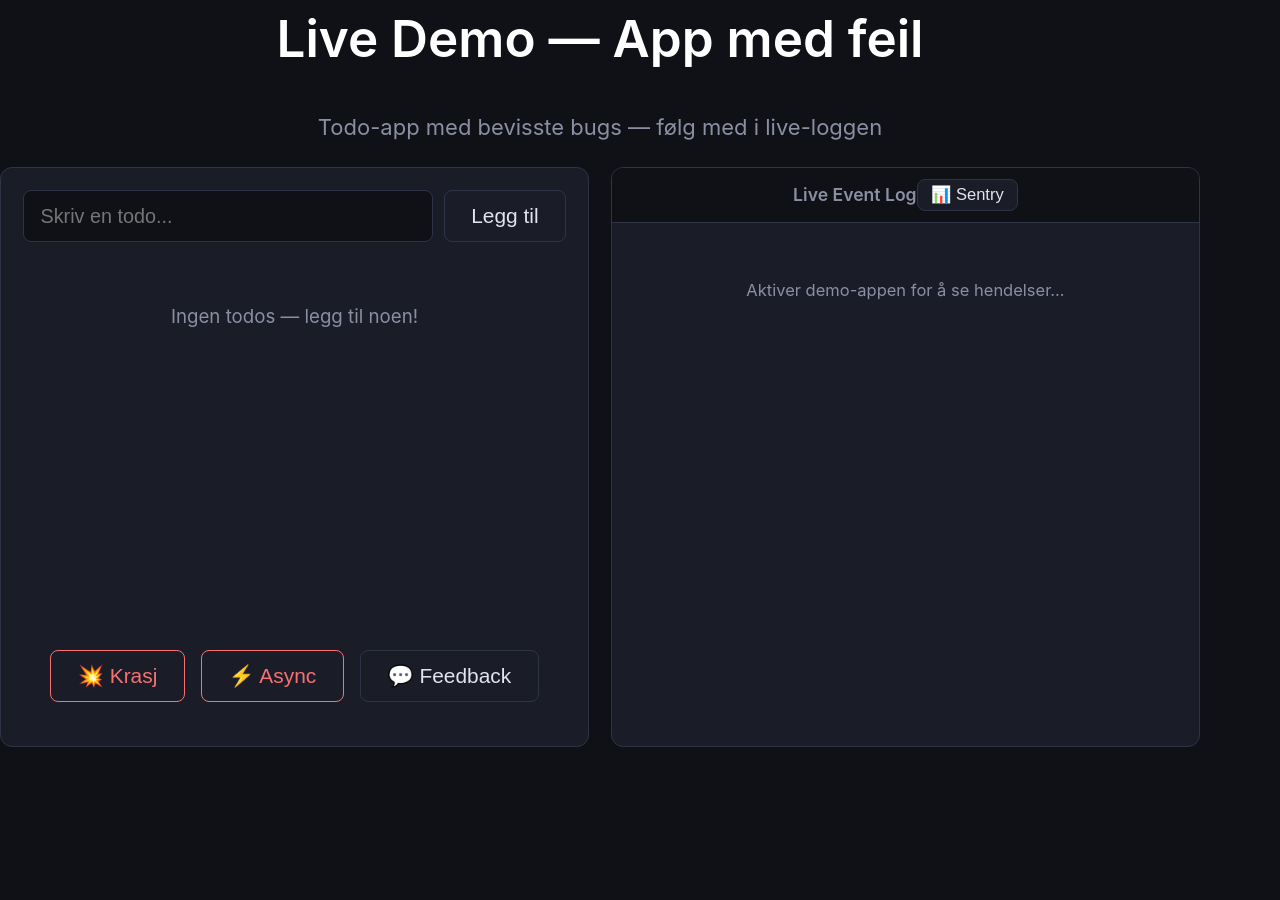
DemoAppSlide › blocking delete on index 2 shows error
Type "A" into the field with placeholder "Skriv en todo..." at (228,216), box top-left (23, 190), bottom-right (433, 242)
Click the button "Legg til" at (505,216), box top-left (444, 190), bottom-right (566, 242)
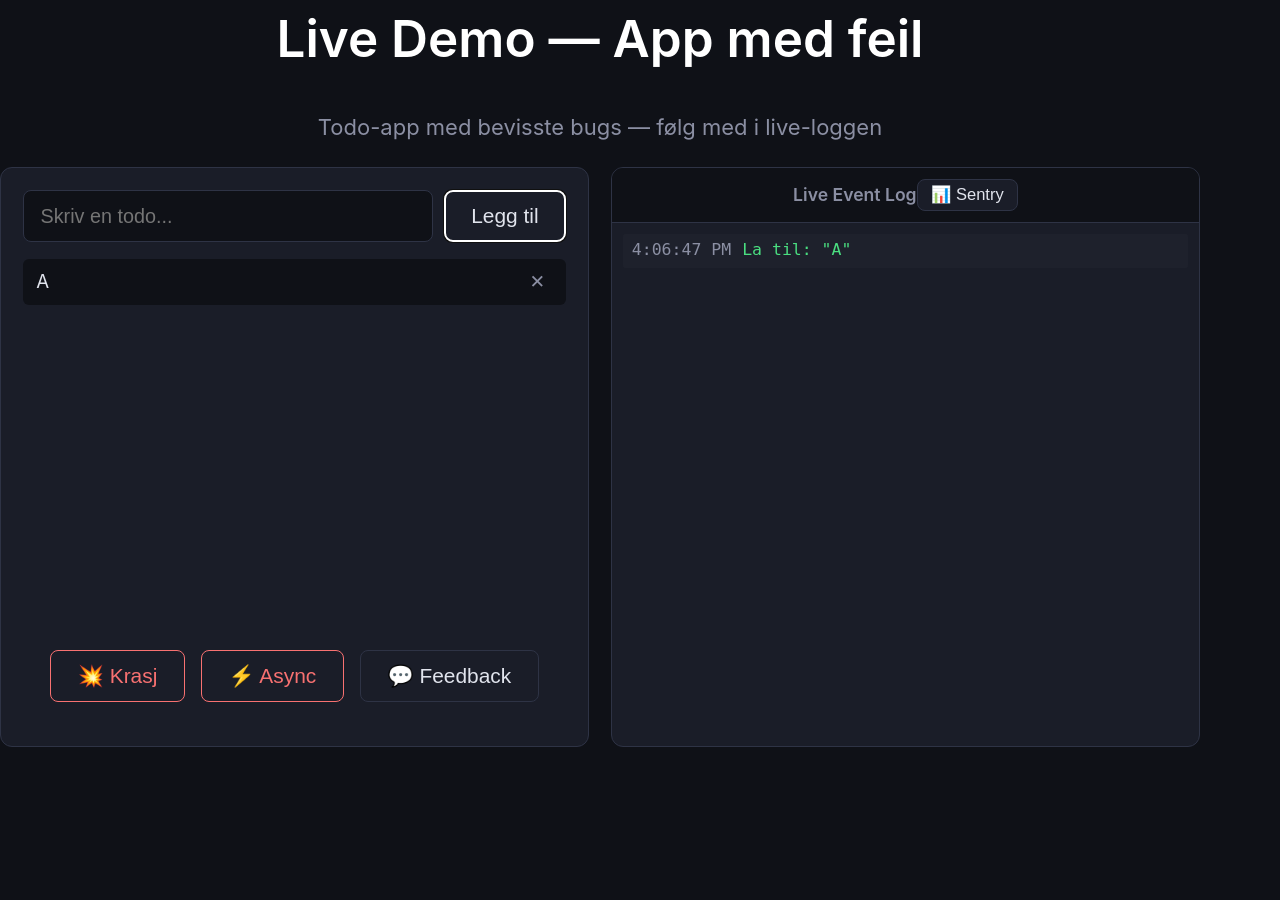
Type "B" into the field with placeholder "Skriv en todo..." at (228,216), box top-left (23, 190), bottom-right (433, 242)
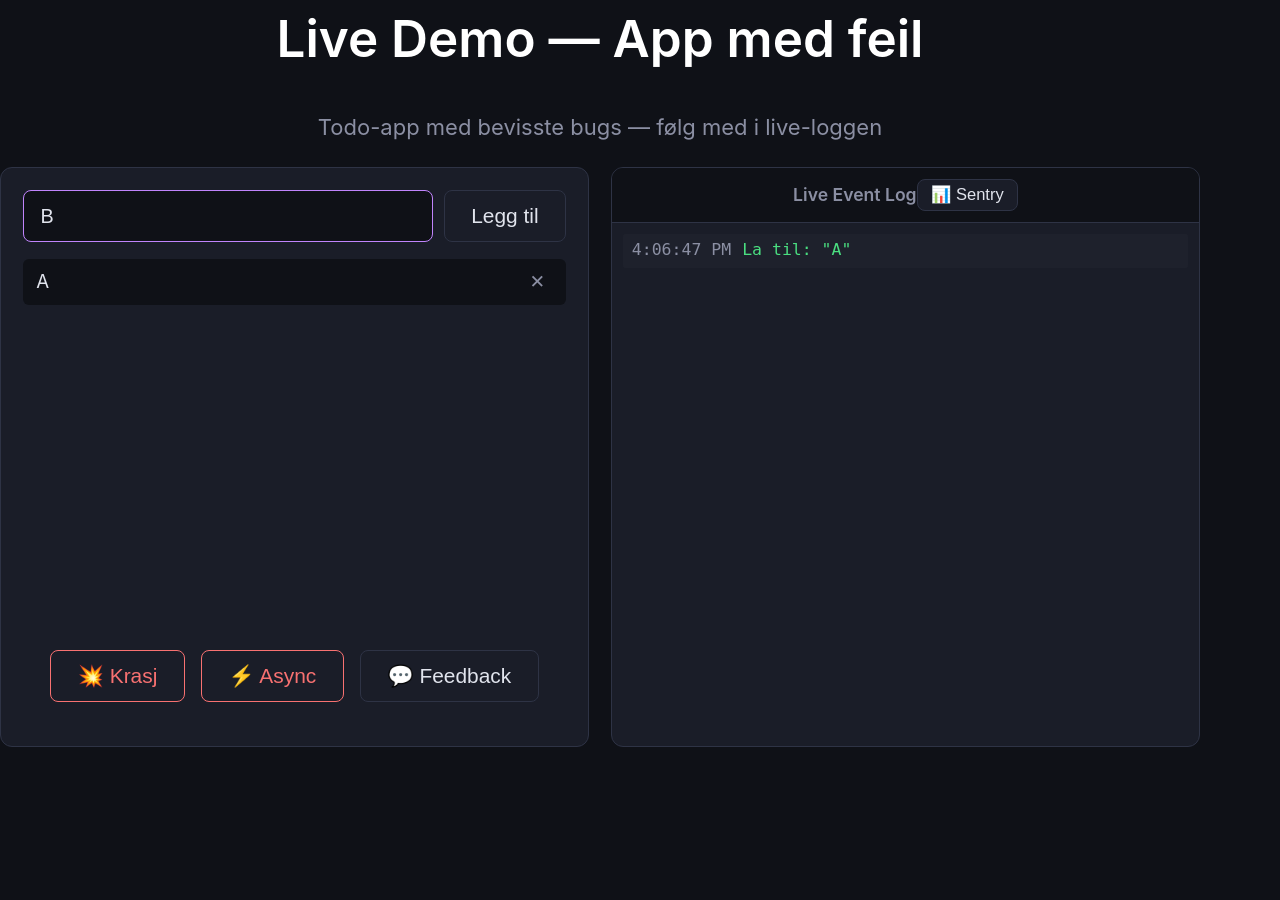
Click the button "Legg til" at (505,216), box top-left (444, 190), bottom-right (566, 242)
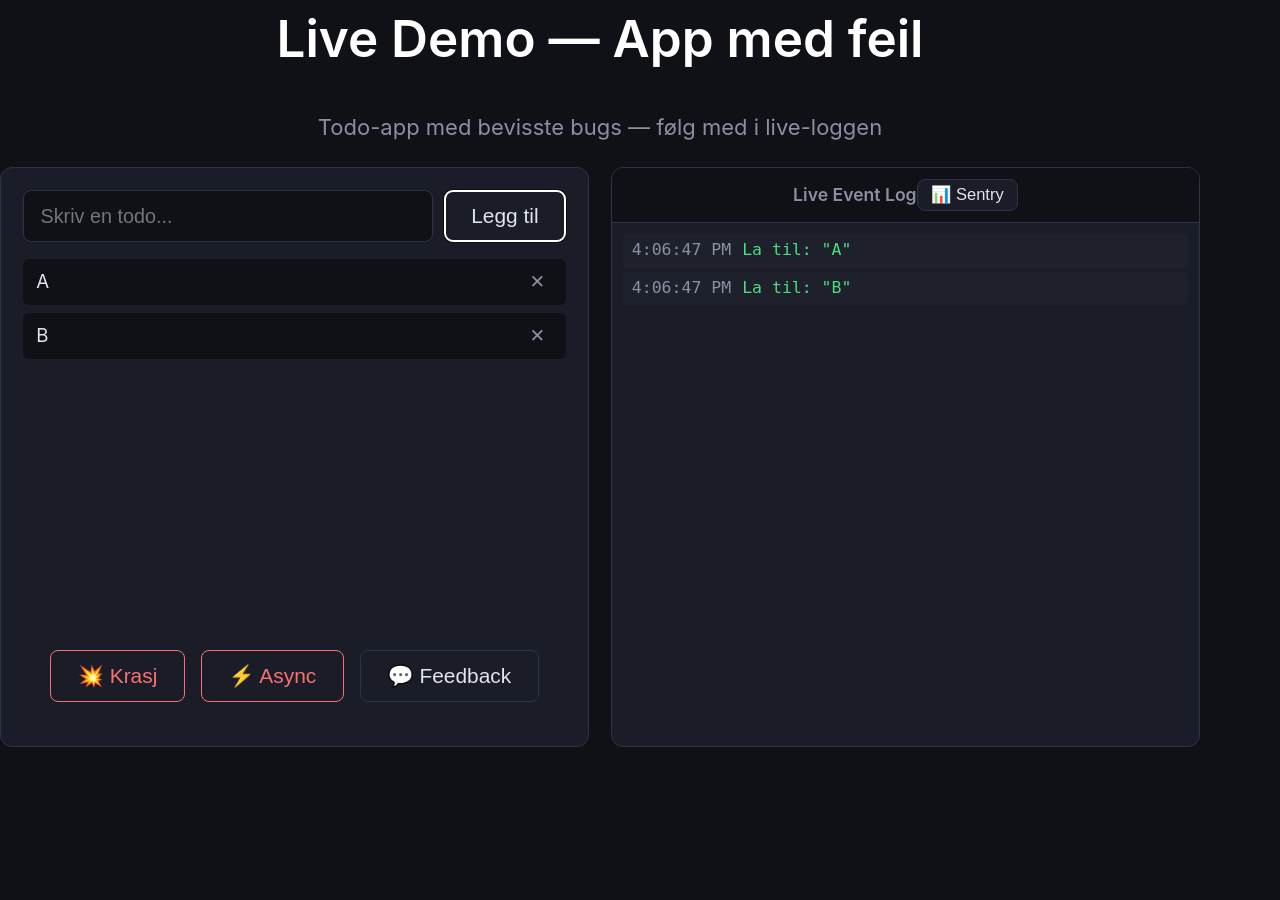
Type "C" into the field with placeholder "Skriv en todo..." at (228,216), box top-left (23, 190), bottom-right (433, 242)
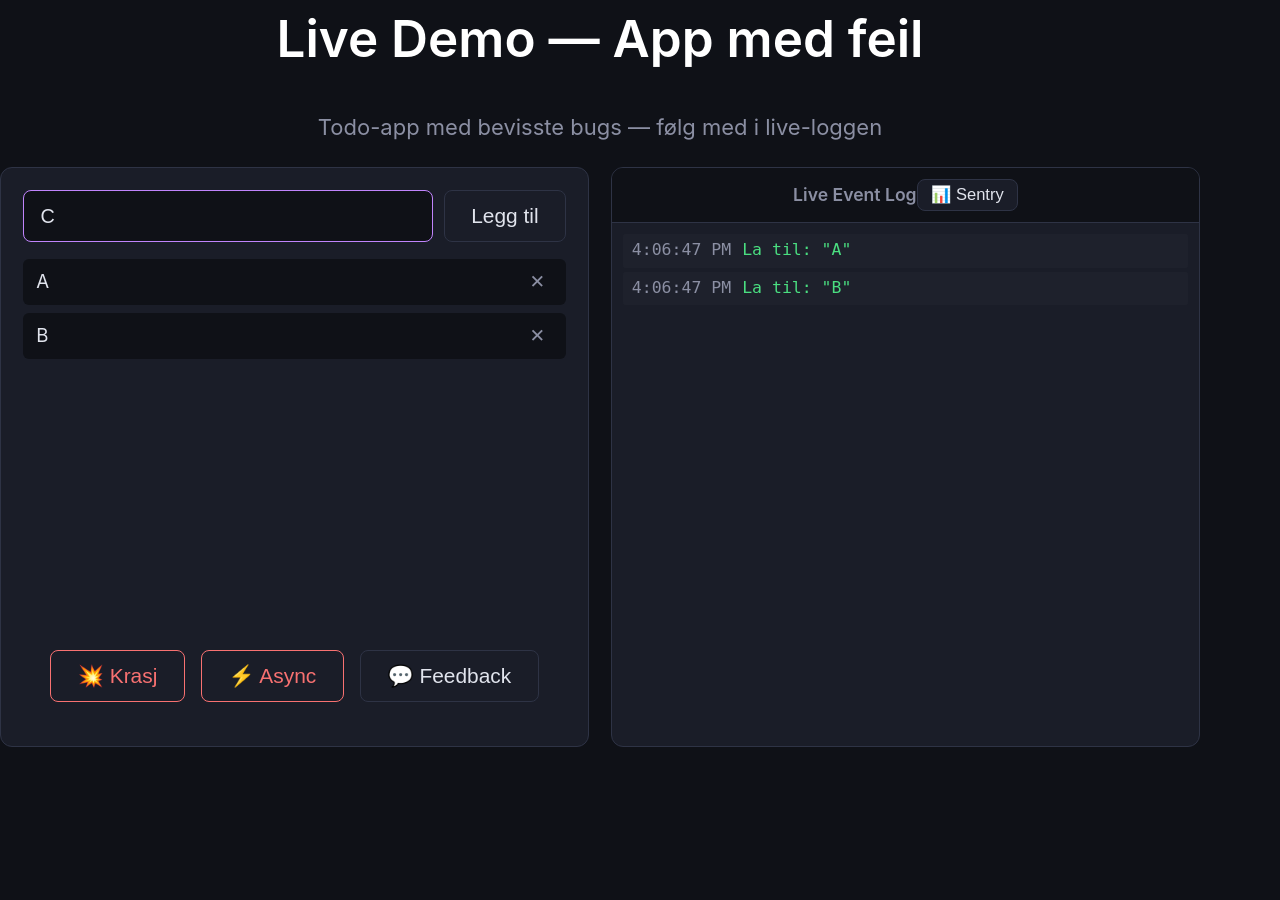
Click the button "Legg til" at (505,216), box top-left (444, 190), bottom-right (566, 242)
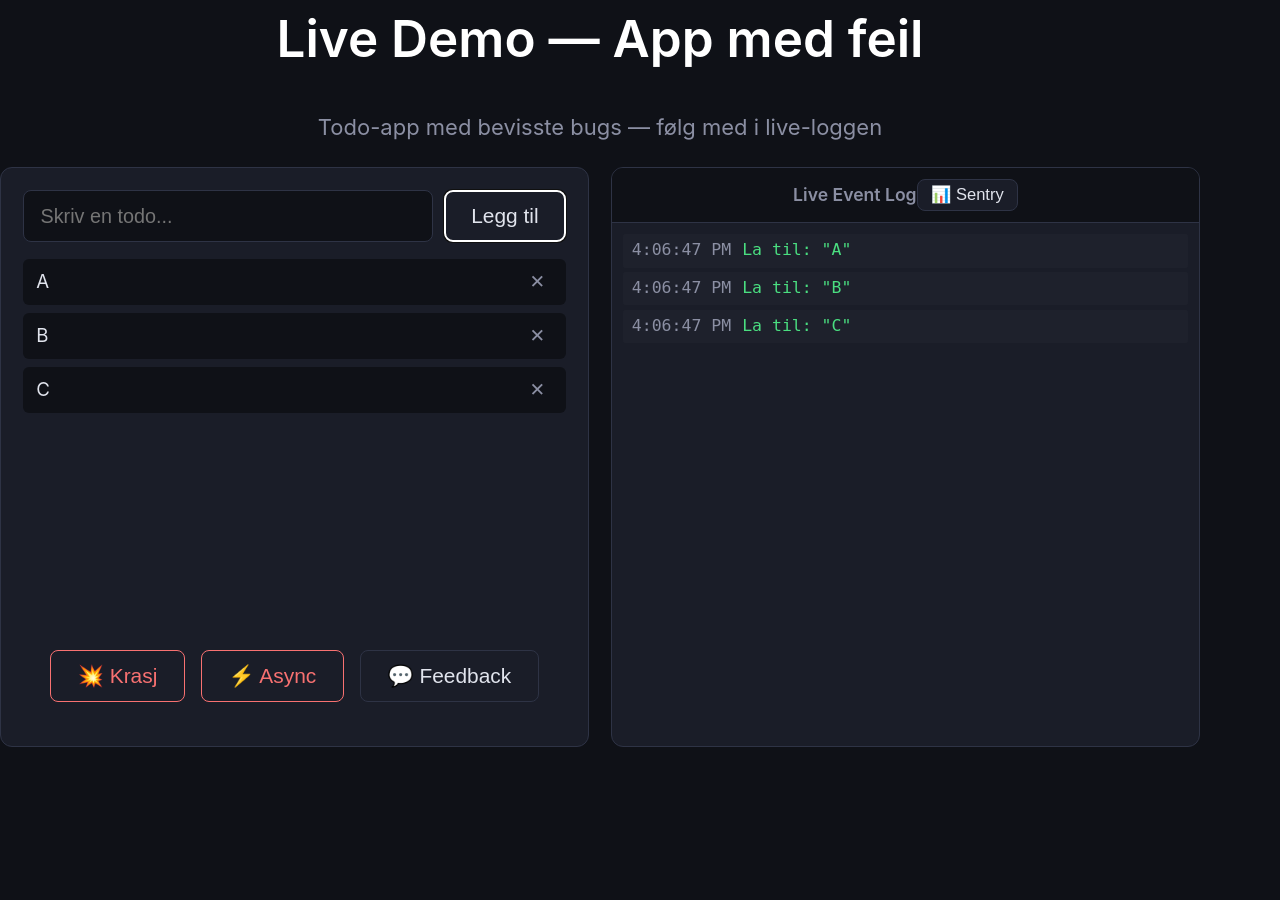
Click the 3rd button "✕" at (537,390), box top-left (522, 375), bottom-right (553, 404)
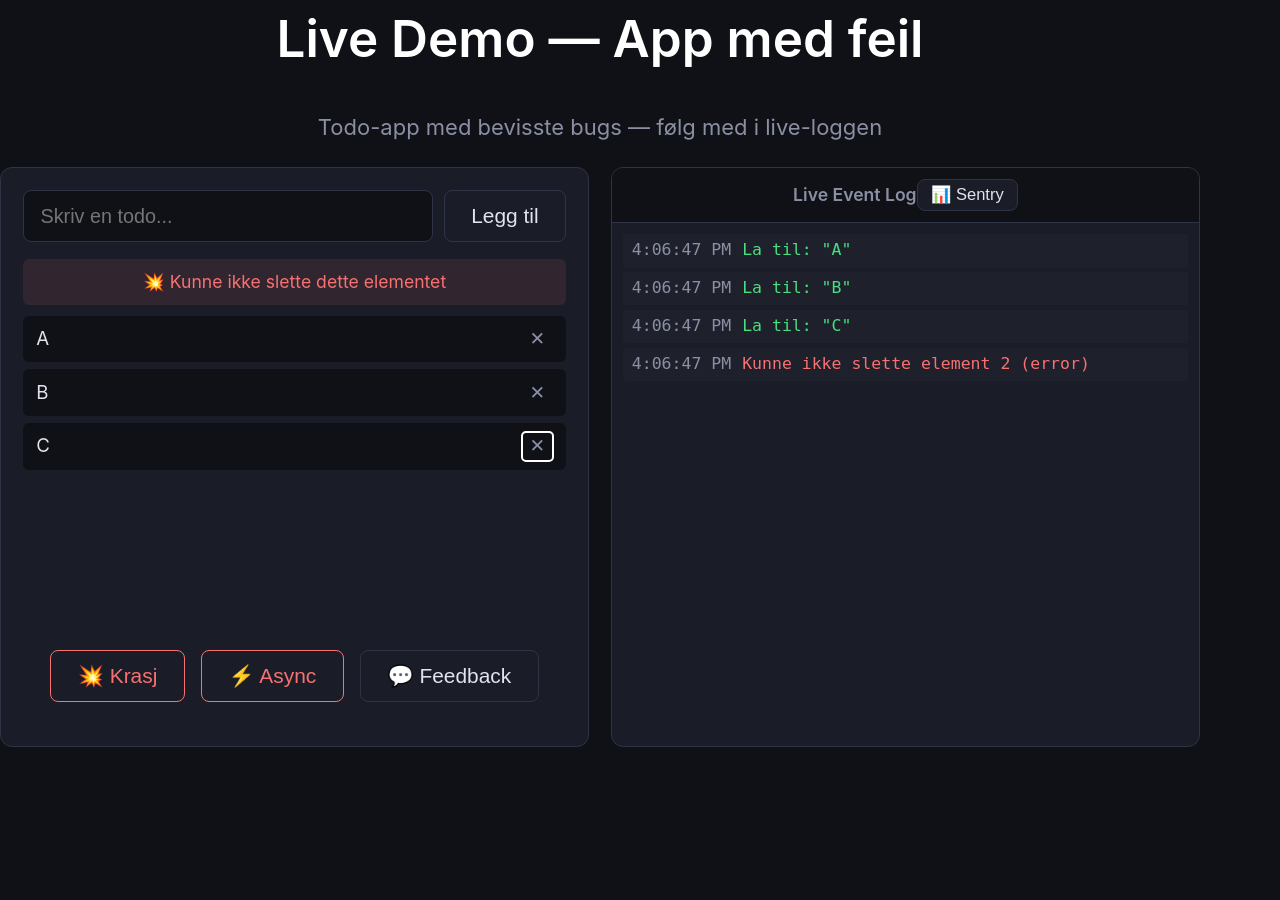
Check: the text "💥 Kunne ikke slette dette elementet" is shown, box top-left (23, 259), bottom-right (566, 305)
